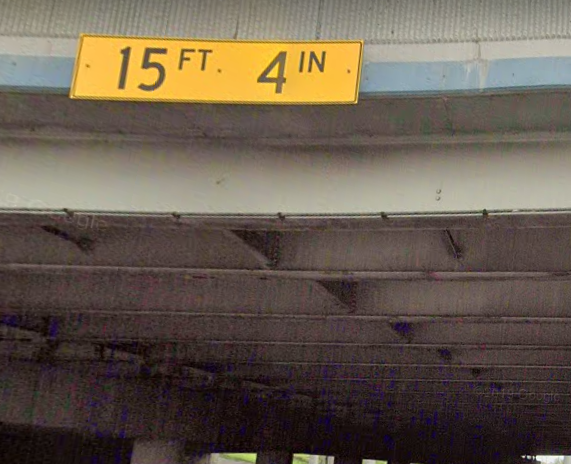1: (112, 40, 134, 97)
4: (252, 44, 291, 102)
5: (135, 42, 169, 94)
overheadsign: (67, 32, 365, 111)
